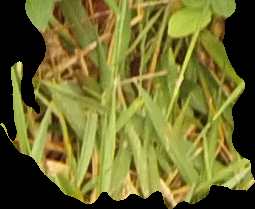grass: (1, 1, 254, 208)
